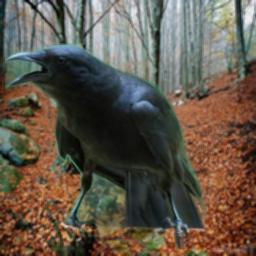Crow: (5, 43, 209, 249)
